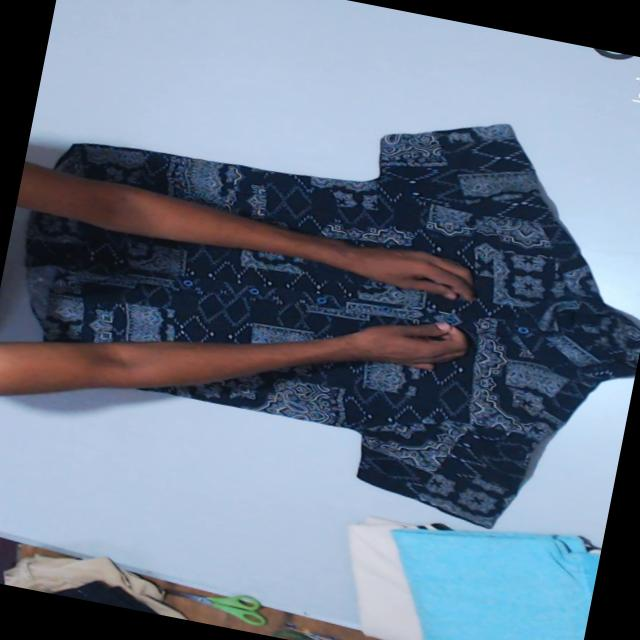new-garment: (26, 125, 640, 527)
